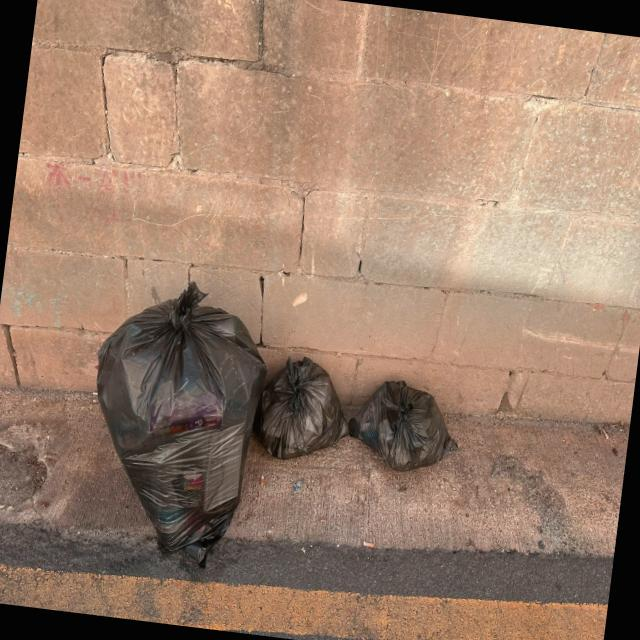black_bag: (68, 270, 276, 574), (254, 347, 360, 470), (345, 374, 465, 479)
